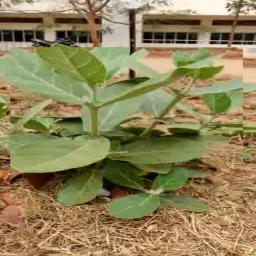CALOTROPIS: (11, 48, 244, 206)
